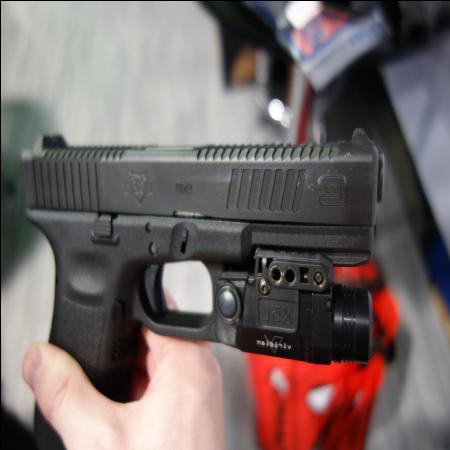Pistol: (16, 127, 384, 450)
